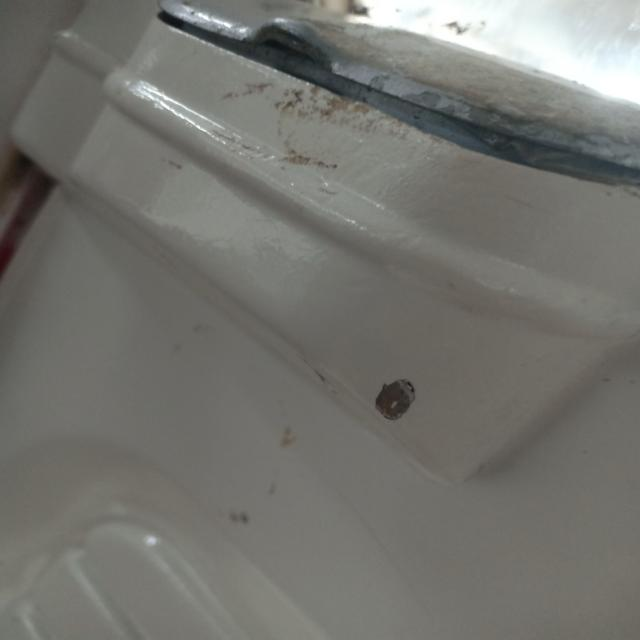Rupture: (364, 353, 452, 466)
